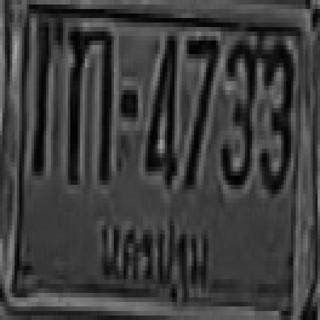A01: (66, 23, 111, 180)
N03: (219, 36, 256, 185), (258, 38, 292, 192)
N04: (143, 32, 174, 185)
N07: (183, 32, 217, 185)
P28: (94, 210, 212, 310)
